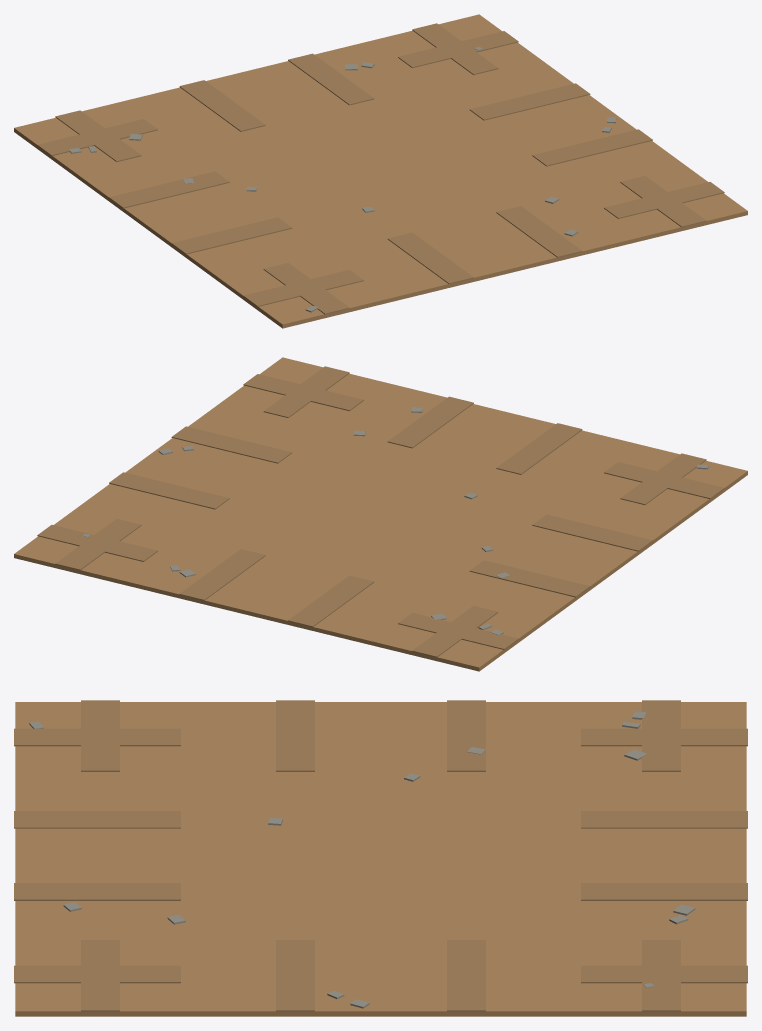
The model's file is road_dirt_twoway_cross.glb.
3 views of the same model, one above another, from view 1: azimuth 30°, elevation 25°; view 2: azimuth 150°, elevation 25°; view 3: azimuth 270°, elevation 25° (orthographic). The views are drawn at different scales.
Visible parts, largest first — view 1: road_dirt_twoway_cross.001; view 2: road_dirt_twoway_cross.001; view 3: road_dirt_twoway_cross.001.
Part boxes in pixels (x1,y1,x2,y2): road_dirt_twoway_cross.001: [14, 14, 747, 328]; road_dirt_twoway_cross.001: [14, 357, 747, 671]; road_dirt_twoway_cross.001: [14, 700, 747, 1016].
Size of the model in its own units: 6.02 by 0.065 by 6.02.
Materials: 1 (1 with a texture image).
